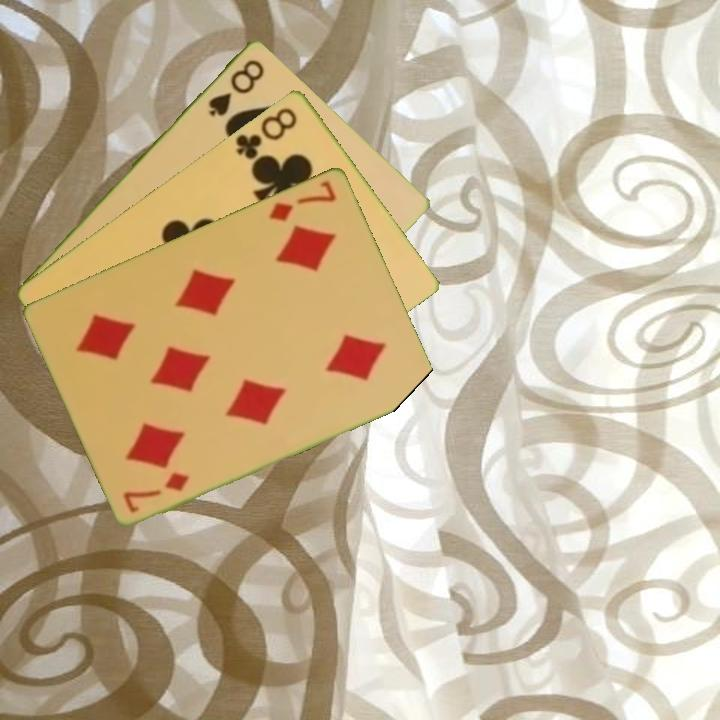7d: (265, 176, 339, 225), (119, 467, 193, 515)
8c: (231, 103, 300, 165)
8s: (204, 55, 267, 119)
